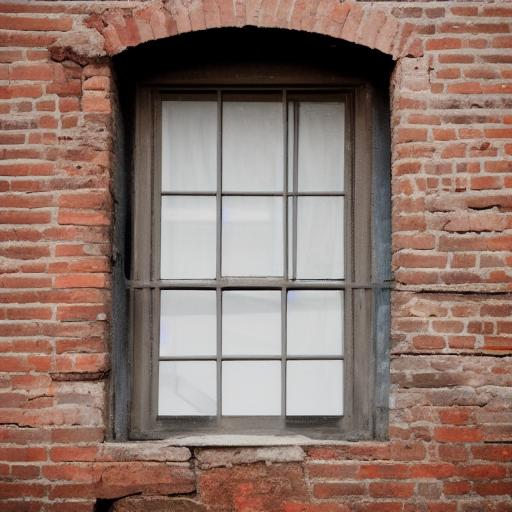Window: (48, 0, 425, 460)
